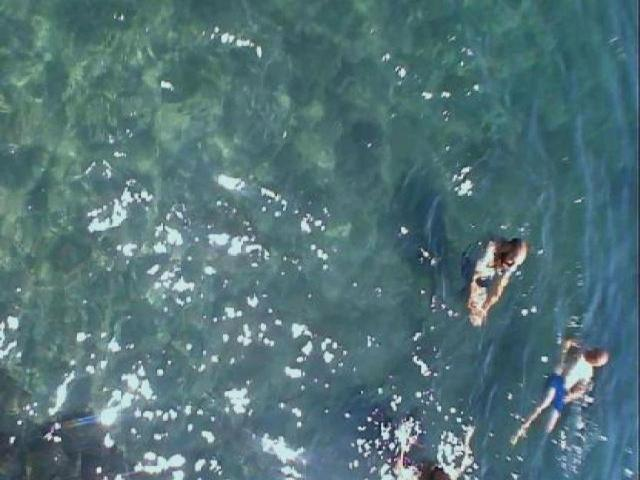swimming: (450, 231, 552, 318), (368, 406, 484, 480), (530, 336, 630, 404)
